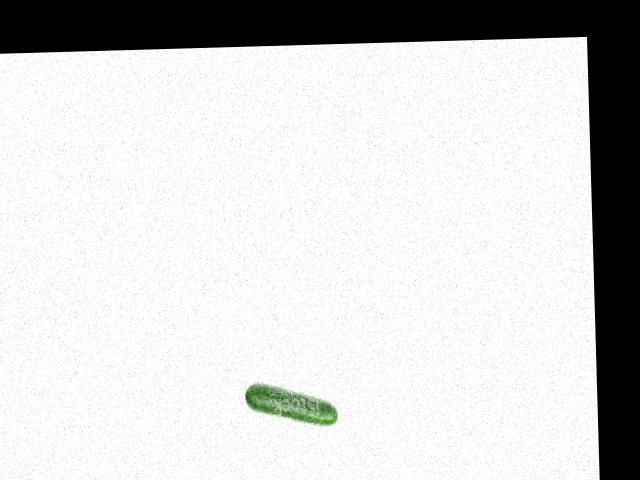cucumber: (243, 382, 338, 428)
